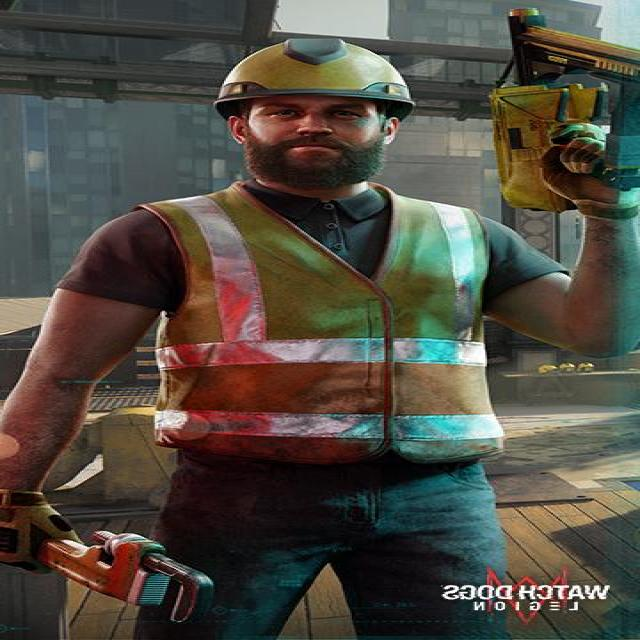Reflective-Jacket: (130, 188, 508, 467)
Safety-Helmet: (206, 38, 422, 109)
